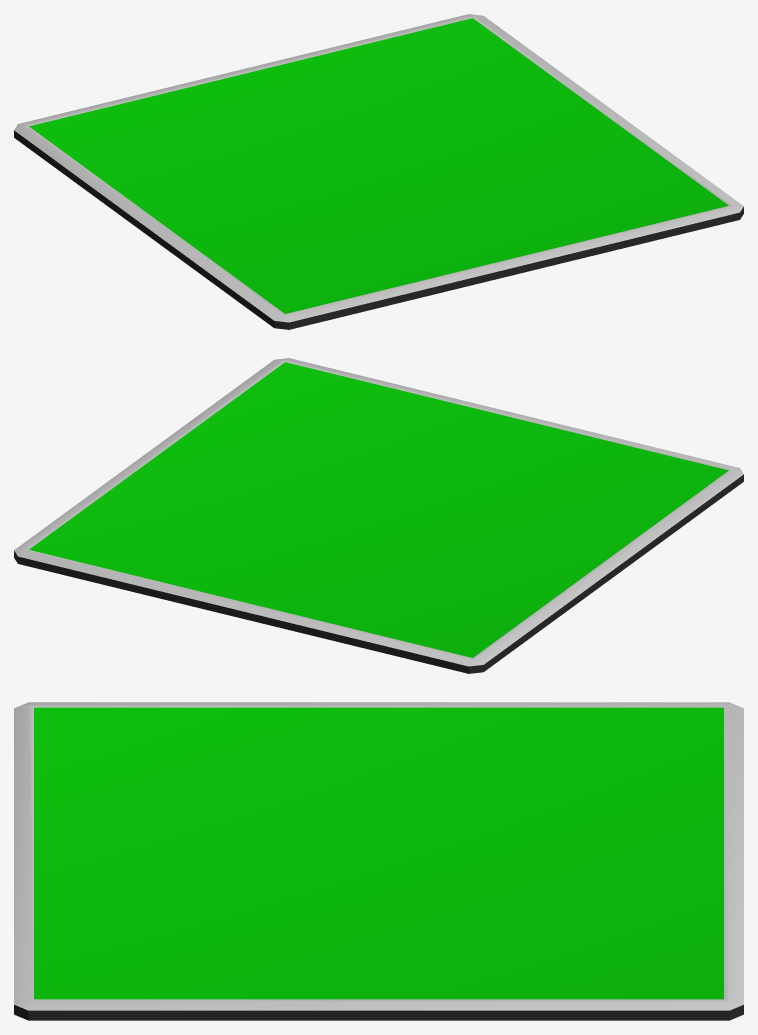
Rendered from TileLarge.fbx.
The picture shows the model from 3 angles, top to bottom: view 1: azimuth 30°, elevation 25°; view 2: azimuth 150°, elevation 25°; view 3: azimuth 270°, elevation 25°; orthographic projection. The views are drawn at different scales.
Visible parts, largest first — view 1: Mesh; view 2: Mesh; view 3: Mesh.
Boxes of the visible parts, x1=… form: Mesh: x1=14, y1=14, x2=743, y2=329; Mesh: x1=14, y1=358, x2=743, y2=673; Mesh: x1=14, y1=702, x2=743, y2=1020.
Bounding box in the file's own units: 400 × 10 × 400.
